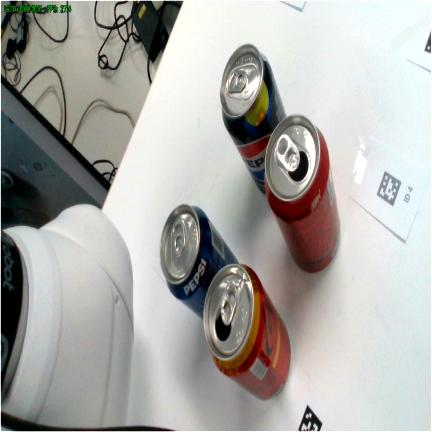can_coke_decaf: (204, 264, 290, 399)
can_coke_zero: (265, 116, 340, 272)
can_pepsi: (160, 204, 238, 318)
can_pepsi_zero: (220, 45, 285, 192)
